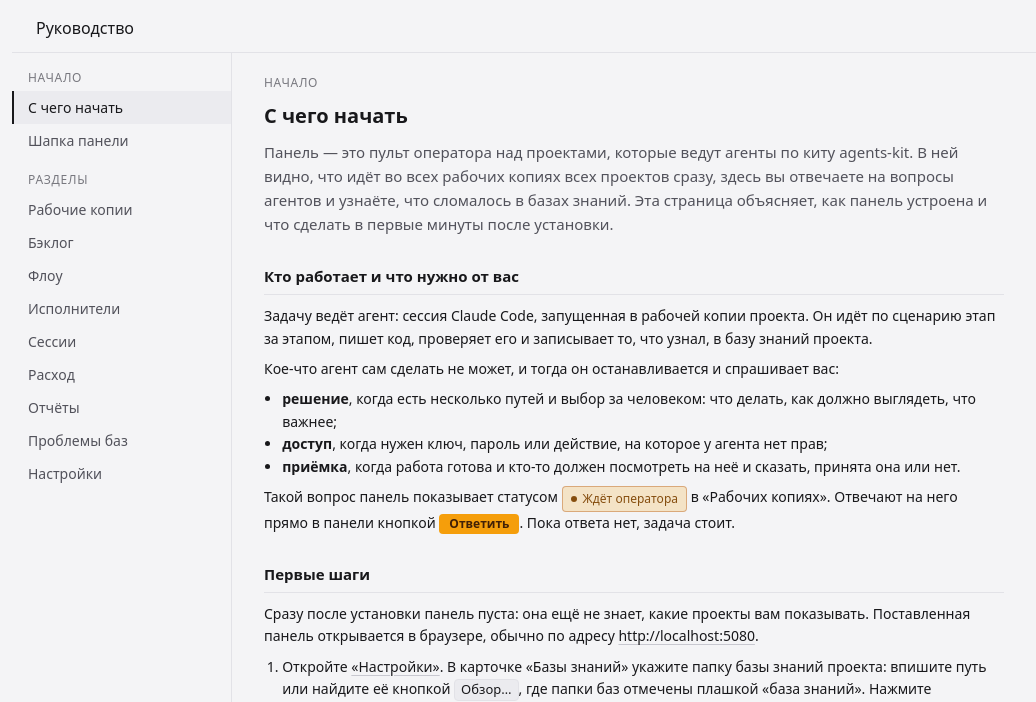
Test: оглавление делится на «Начало» и «Разделы» и открывает страницу раздела
Expected: the 1st text "Начало" is shown, [28,69,82,86]
Expected: the text "Разделы" is shown, [28,171,88,188]
Click the button "Рабочие копии".
click(122, 210)  # box [12,193,231,226]
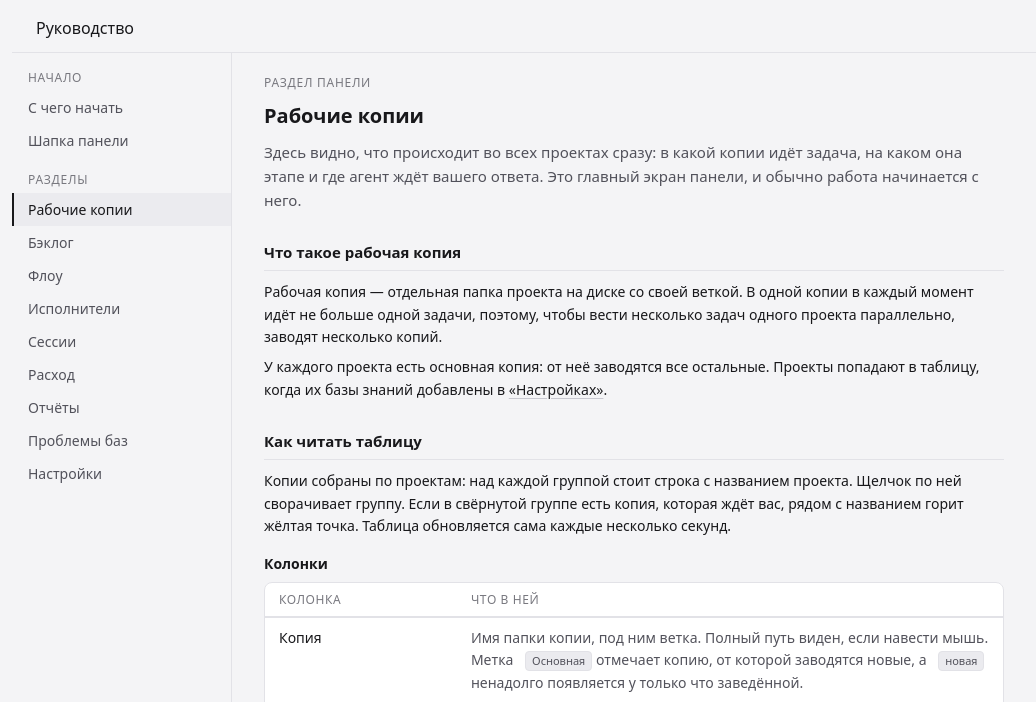
Expected: the heading "Рабочие копии" is shown, [264,102,424,129]
Expected: the text "Раздел панели" is shown, [264,74,371,91]
